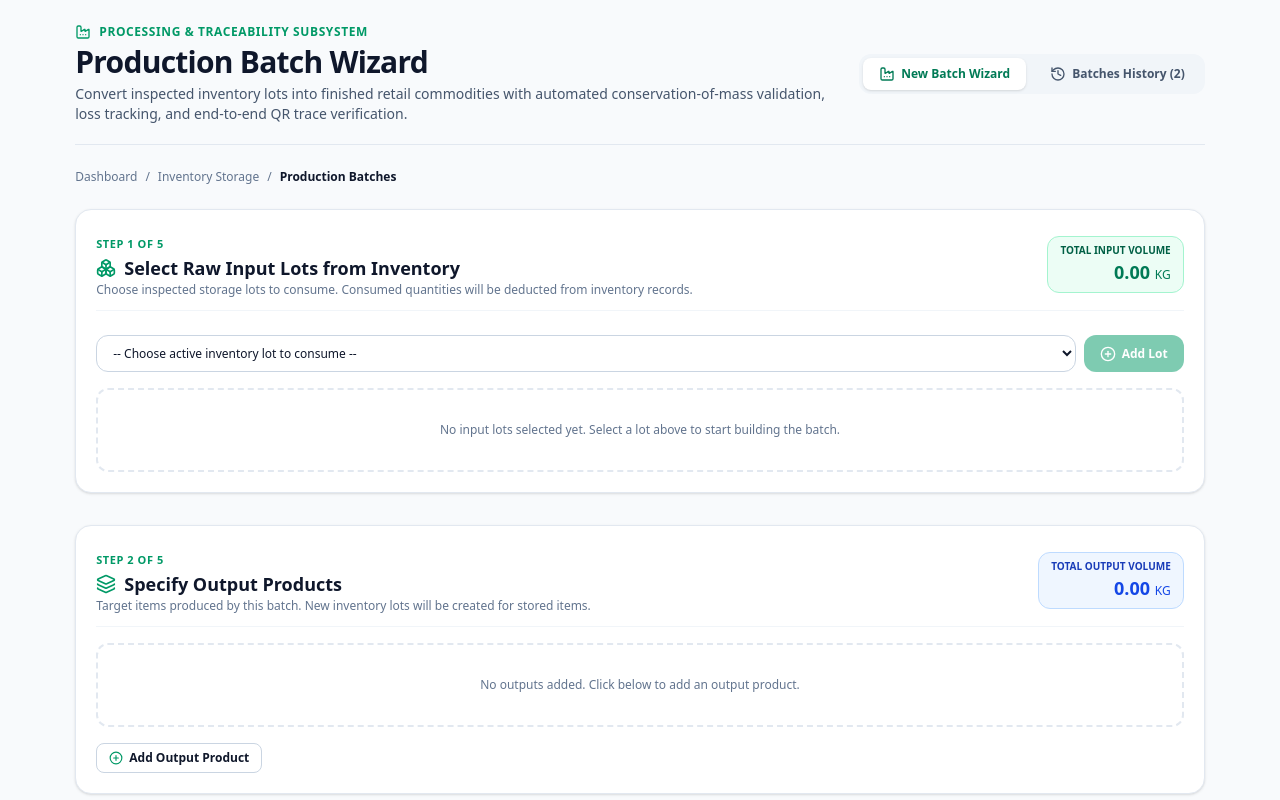
F-904: Production Batch Creation Wizard & Conservation of Mass › selects an active input lot and displays its balance and quantity input
// Select lot-001 (Honey, 48 KG available)
Select "LOT-2026-042 · South Omo White Forest Honey (Grade B) · Avail: 48 KG · Turmi Cen" in the dropdown with test id "select-input-lot-dropdown". click: (586, 354)
box: [96, 335, 1076, 372]
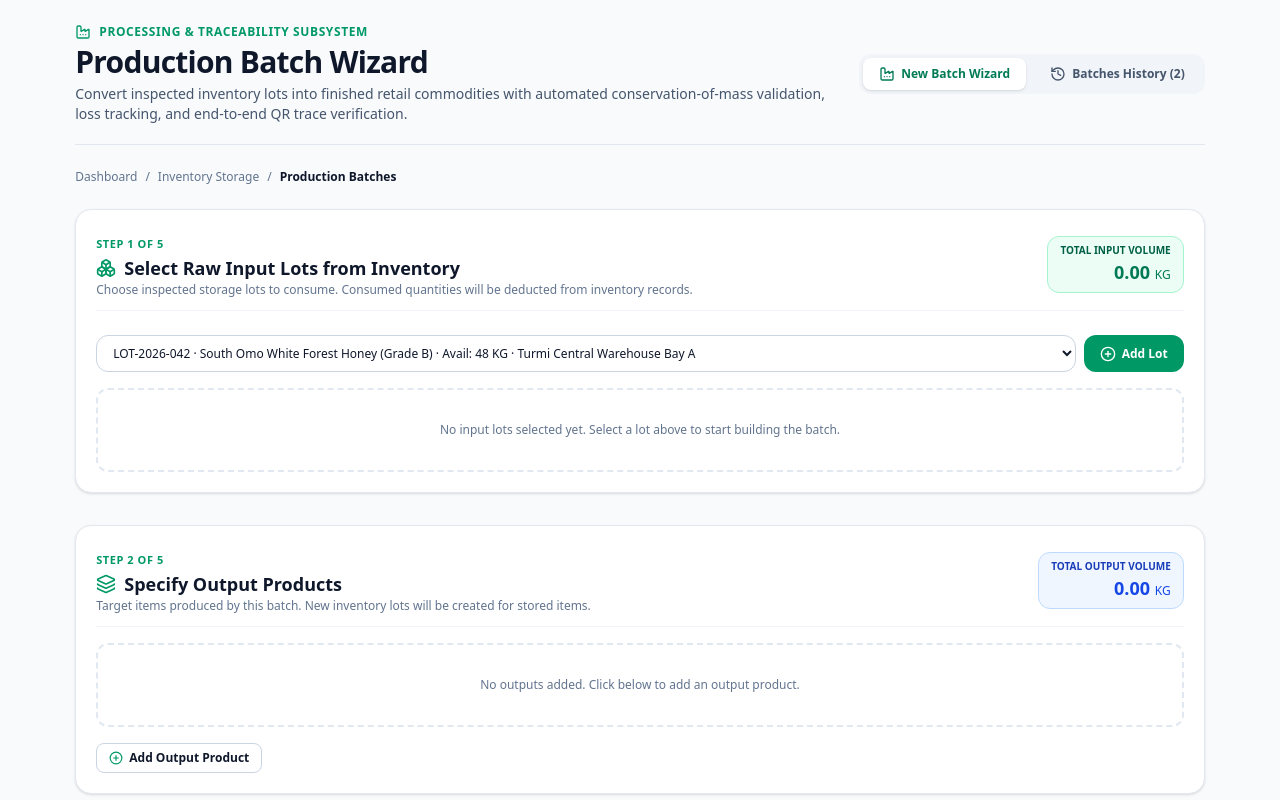
Now the button with test id "add-input-lot-btn" is enabled
Click the button with test id "add-input-lot-btn". click: (1134, 354)
box: [1084, 335, 1184, 372]
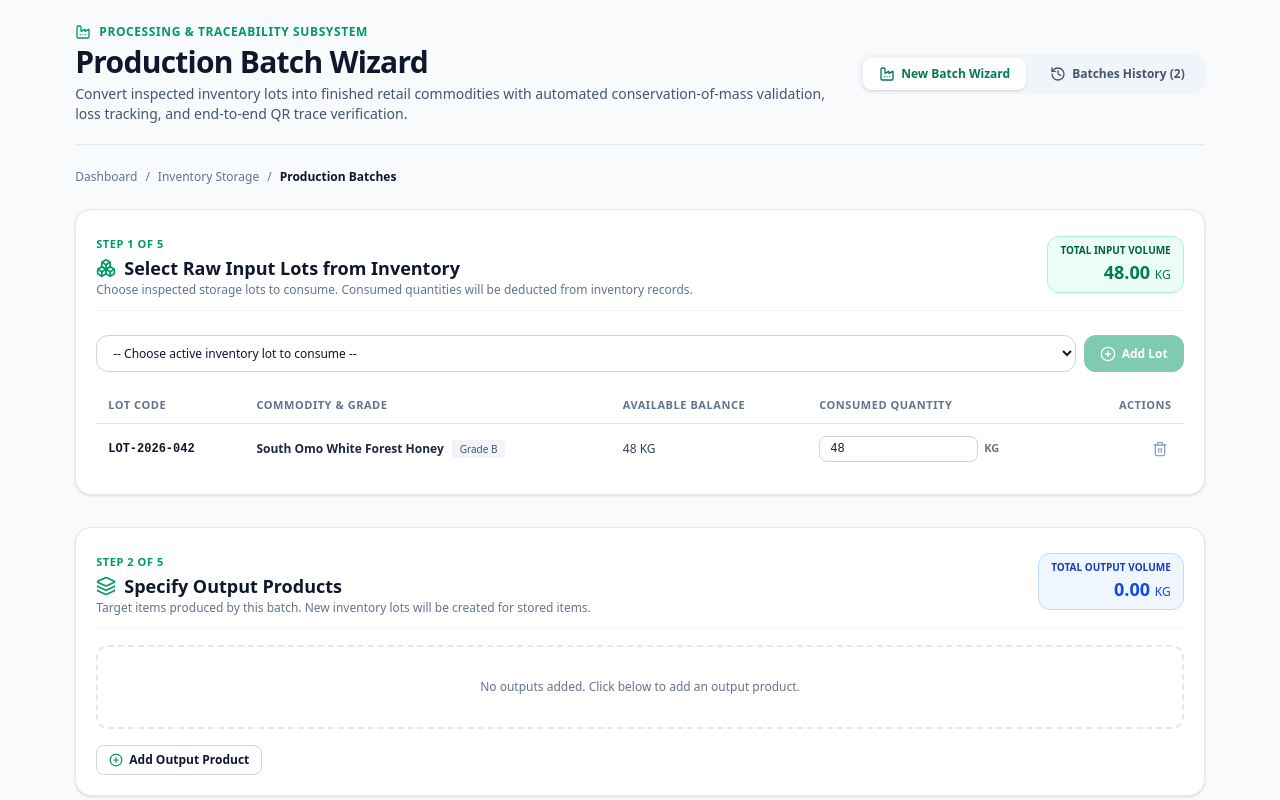
Now the text "LOT-2026-042" is shown, box [96, 423, 244, 474]
Now the number field with test id "input-lot-quantity-lot-001" holds "48", box [819, 436, 978, 462]
Now the element with test id "total-inputs-metric" shows "48.00", box [1104, 260, 1150, 284]
